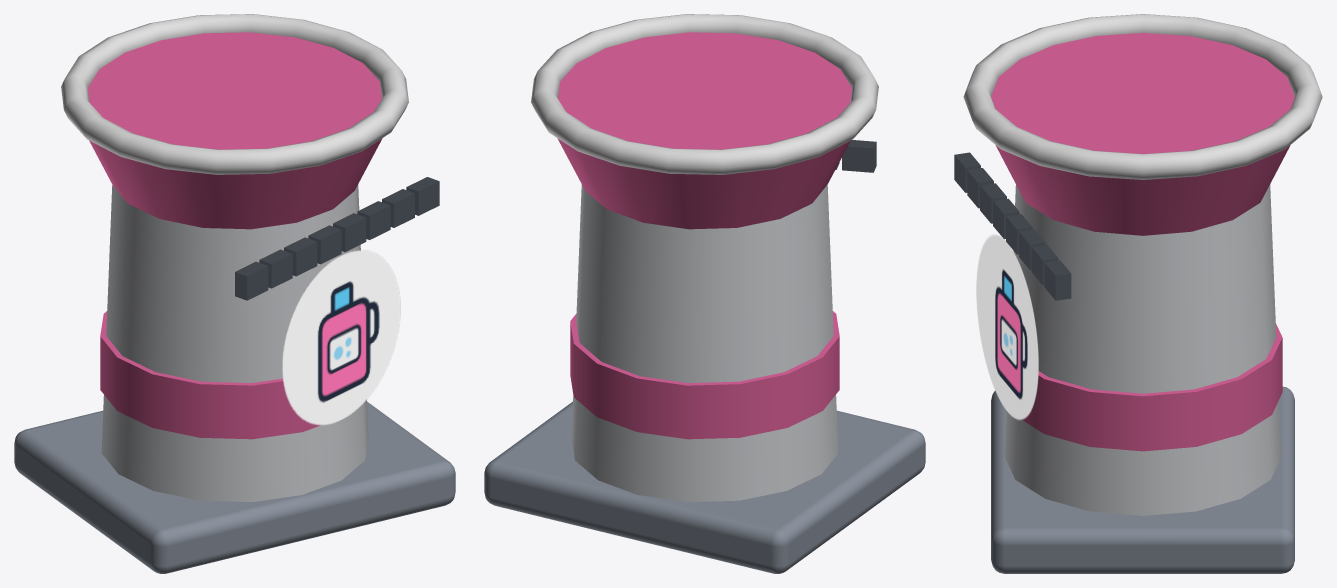
Rendered from hopper_soap.glb.
3 renders of one model, left to right at view 1: azimuth 30°, elevation 25°; view 2: azimuth 150°, elevation 25°; view 3: azimuth 270°, elevation 25°, orthographic. The views are drawn at different scales.
Visible parts, largest first — view 1: Hopper_soap, Icon, Pip0, Pip4, Pip2, Pip1, Pip7, Pip3, Pip5, Pip6; view 2: Hopper_soap, Pip0; view 3: Hopper_soap, Icon, Pip7, Pip6, Pip0, Pip3, Pip1, Pip5, Pip2, Pip4.
Part boxes in pixels (x1,y1,x2,y2): Hopper_soap: (14,14,455,573); Icon: (282,250,400,425); Pip0: (235,261,268,300); Pip4: (333,213,366,252); Pip2: (284,237,317,276); Pip1: (259,249,292,288); Pip7: (406,177,439,215); Pip3: (308,225,341,264); Pip5: (357,201,390,239); Pip6: (382,189,414,227); Hopper_soap: (484,14,925,573); Pip0: (842,140,876,172); Hopper_soap: (963,14,1322,573); Icon: (976,234,1038,420); Pip7: (1044,260,1071,300); Pip6: (1031,245,1058,285); Pip0: (954,152,980,192); Pip3: (993,198,1019,239); Pip1: (967,168,993,208); Pip5: (1019,229,1045,269); Pip2: (980,183,1006,223); Pip4: (1006,214,1032,254).
Size of the model in its own units: 1.35 by 1.67 by 1.33.
Materials: 10 (1 with a texture image).
